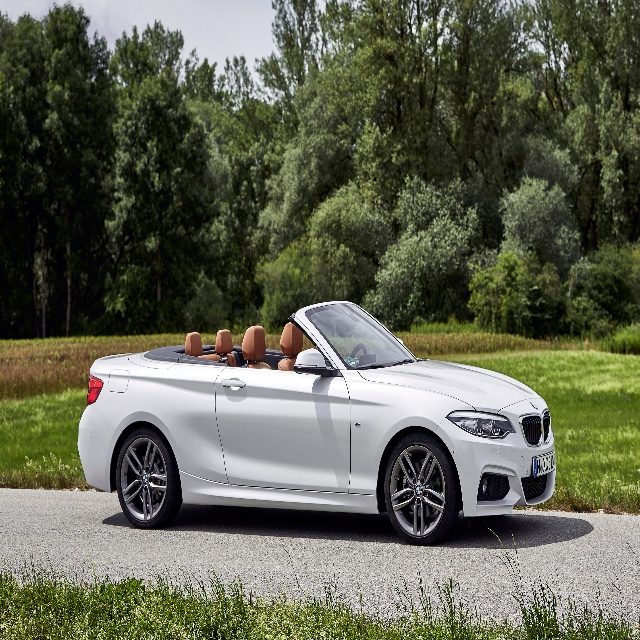Car: (78, 299, 556, 546)
